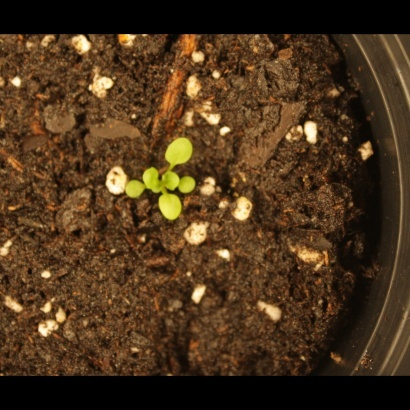leaf: (164, 138, 195, 169), (116, 176, 147, 204), (158, 193, 186, 223), (138, 164, 164, 191), (177, 173, 200, 196), (163, 170, 186, 193)
